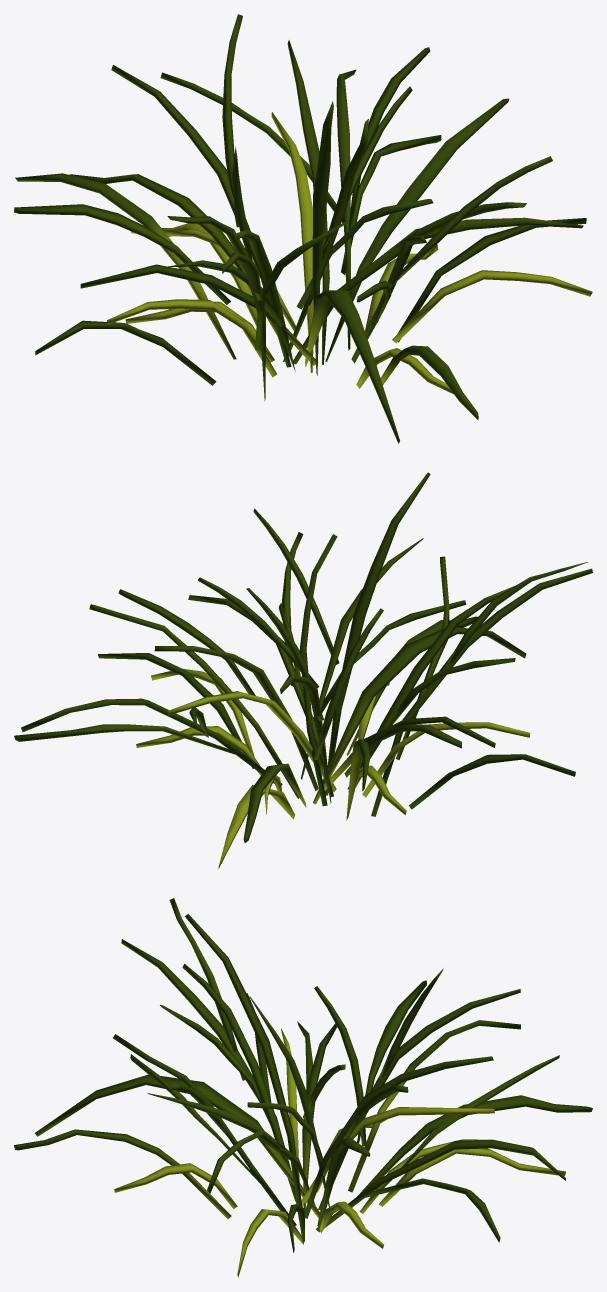
Rendered from lowpoly_1.dae.
3 views of the same model, one above another, from view 1: azimuth 30°, elevation 25°; view 2: azimuth 150°, elevation 25°; view 3: azimuth 270°, elevation 25° (orthographic). The views are drawn at different scales.
Parts seen in each view (by area): view 1: Grass_Wild_A_spring-summer.001; view 2: Grass_Wild_A_spring-summer.001; view 3: Grass_Wild_A_spring-summer.001.
Boxes of the visible parts, x1=… form: Grass_Wild_A_spring-summer.001: x1=14, y1=14, x2=592, y2=443; Grass_Wild_A_spring-summer.001: x1=14, y1=472, x2=592, y2=869; Grass_Wild_A_spring-summer.001: x1=14, y1=898, x2=592, y2=1277.
Size of the model in its own units: 0.4827 by 0.5162 by 0.2913.
